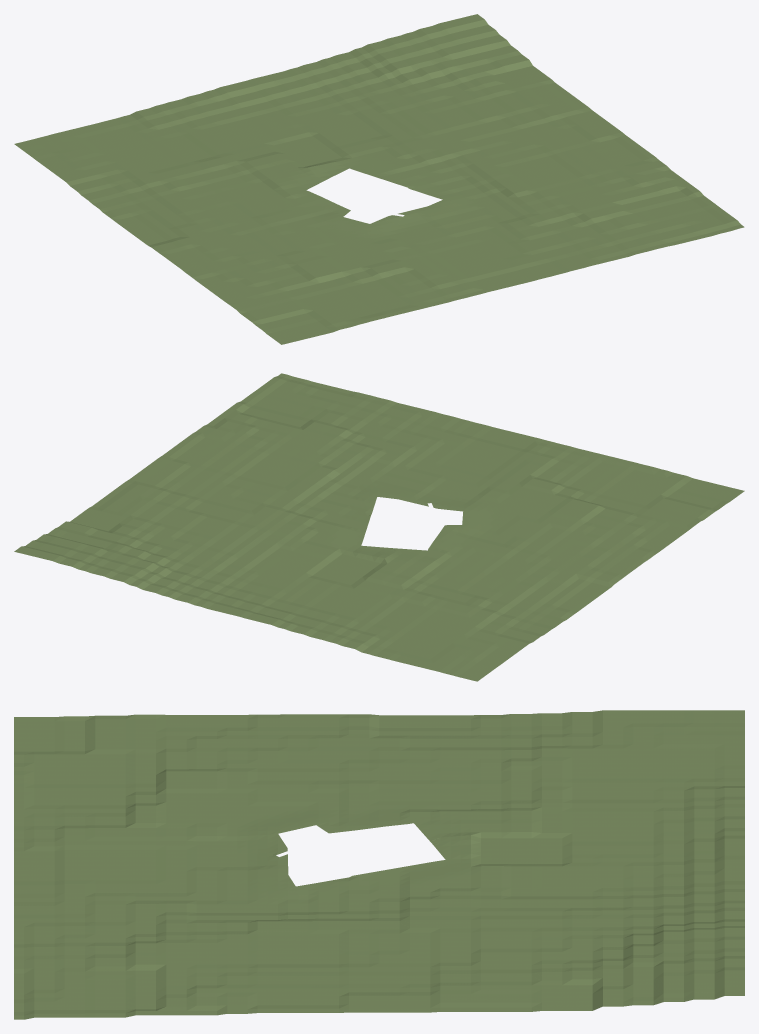
The picture shows the model from 3 angles, top to bottom: view 1: azimuth 30°, elevation 25°; view 2: azimuth 150°, elevation 25°; view 3: azimuth 270°, elevation 25°; orthographic projection. The views are drawn at different scales.
Visible parts, largest first — view 1: surface_context-terrain; view 2: surface_context-terrain; view 3: surface_context-terrain.
Part boxes in pixels (box(x1,y1,x2,y2)): surface_context-terrain: box(14, 14, 744, 344); surface_context-terrain: box(14, 373, 744, 681); surface_context-terrain: box(14, 710, 744, 1019).
Size of the model in its own units: 720 by 32.67 by 720.
Materials: 1 (1 with a texture image).
